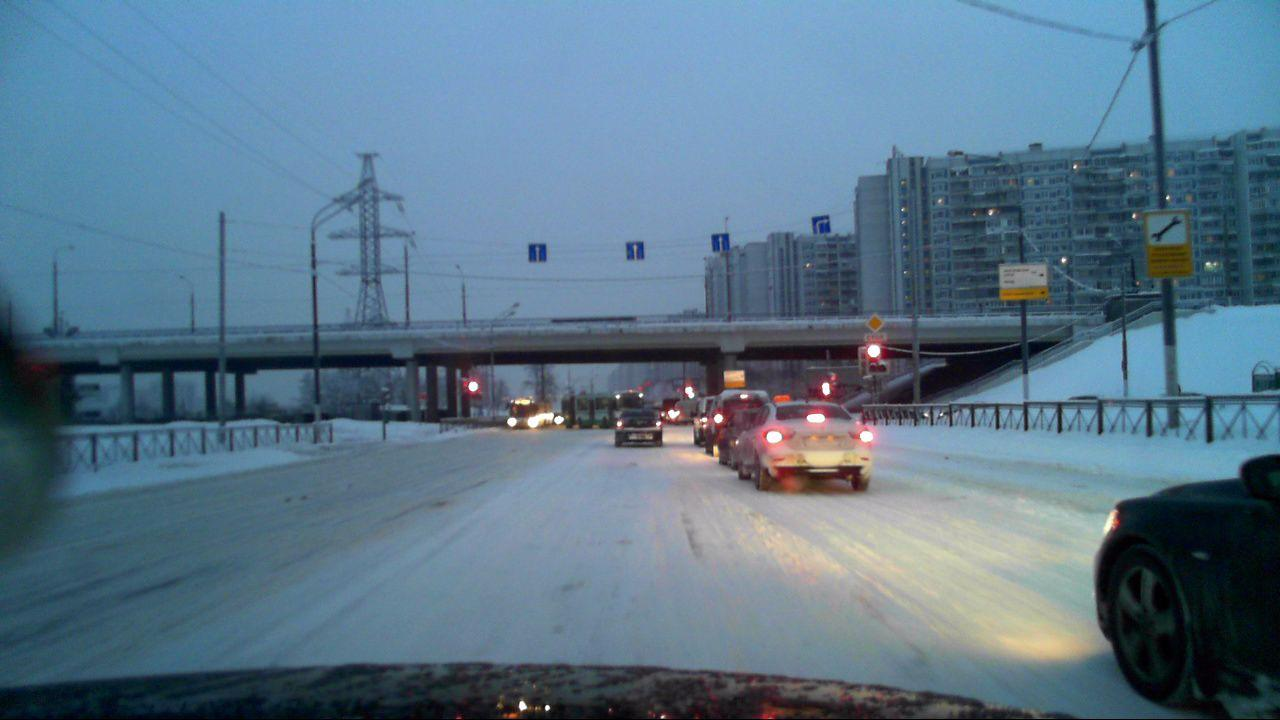road_sign: (863, 311, 886, 335), (810, 213, 833, 235), (710, 233, 730, 253), (528, 243, 547, 263), (626, 239, 644, 260)
